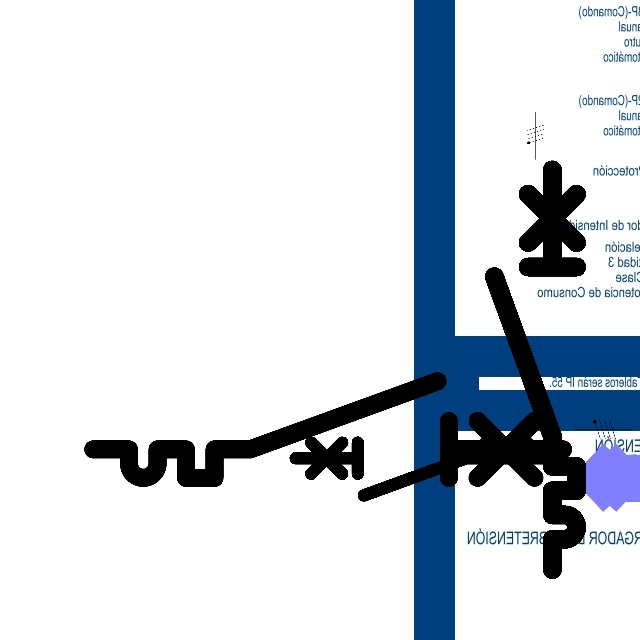interruptor_termomagnetico: (81, 369, 575, 490), (484, 159, 587, 580), (289, 436, 558, 501)
